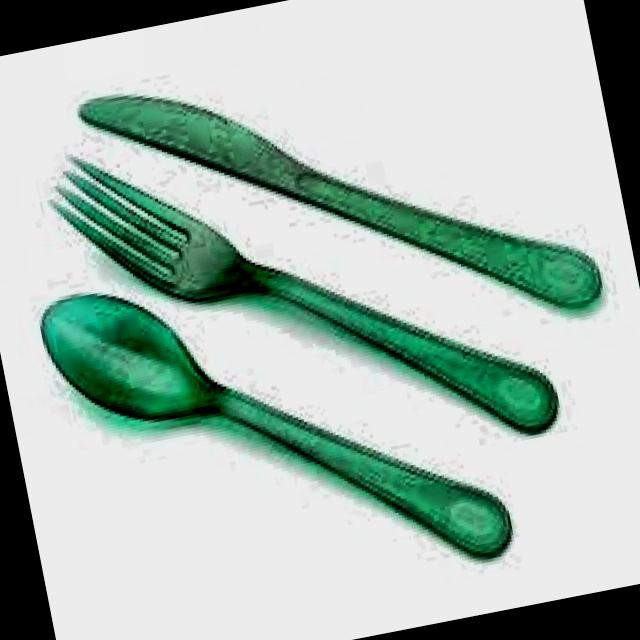plastic utensil: (56, 165, 557, 431), (43, 294, 511, 557), (79, 96, 602, 307)
